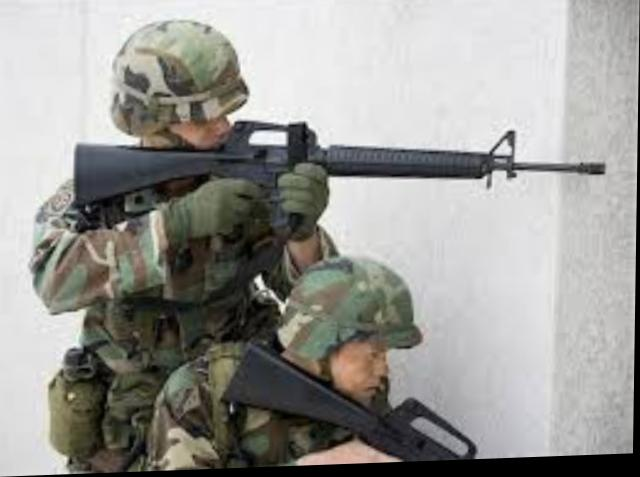other: (52, 13, 309, 463), (231, 248, 428, 469)
